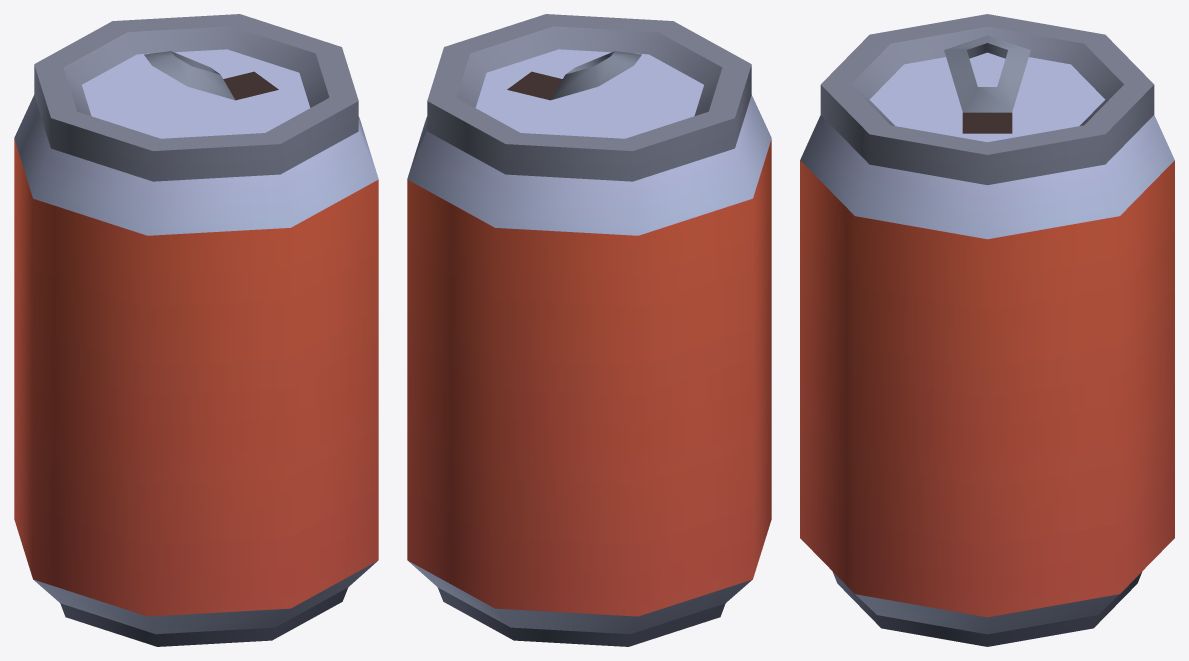
File: soda-can.glb
The picture shows the model from 3 angles, left to right: view 1: azimuth 30°, elevation 25°; view 2: azimuth 150°, elevation 25°; view 3: azimuth 270°, elevation 25°; orthographic projection.
Visible parts, largest first — view 1: soda-can; view 2: soda-can; view 3: soda-can.
Part boxes in pixels (x1,y1,x2,y2): soda-can: (14, 14, 378, 646); soda-can: (407, 14, 771, 646); soda-can: (800, 14, 1174, 646).
Bounding box in the file's own units: 0.2246 × 0.3506 × 0.2246.
1 material, 1 textured.
